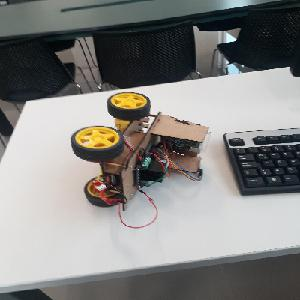Robot: (70, 92, 209, 210)
